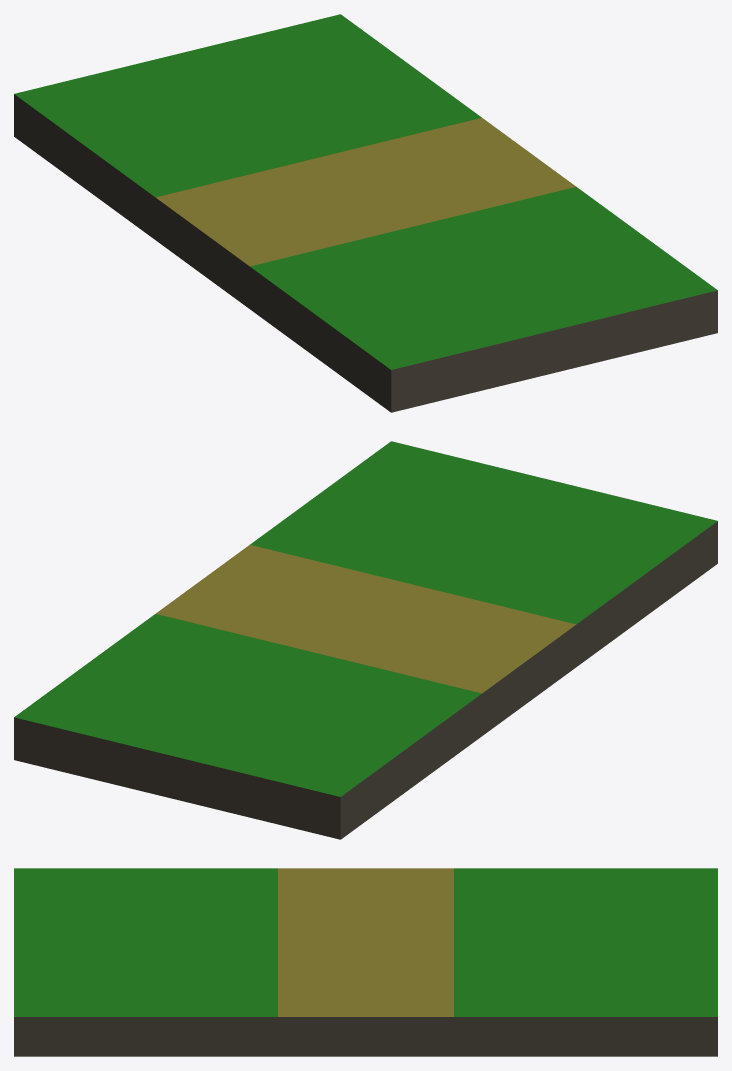
The model's file is east_terrace.obj.
The picture shows the model from 3 angles, top to bottom: view 1: azimuth 30°, elevation 25°; view 2: azimuth 150°, elevation 25°; view 3: azimuth 270°, elevation 25°; orthographic projection. The views are drawn at different scales.
Parts seen in each view (by area): view 1: east_terrace; view 2: east_terrace; view 3: east_terrace.
Boxes of the visible parts, box(x1,y1,x2,y2) form: east_terrace: box(14, 14, 717, 412); east_terrace: box(14, 441, 717, 839); east_terrace: box(14, 868, 717, 1056).
Bounding box in the file's own units: 4 × 0.5 × 8.
